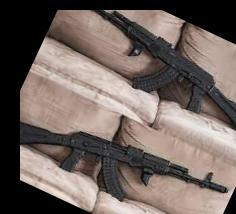larga: (91, 10, 236, 130), (20, 120, 229, 202)
